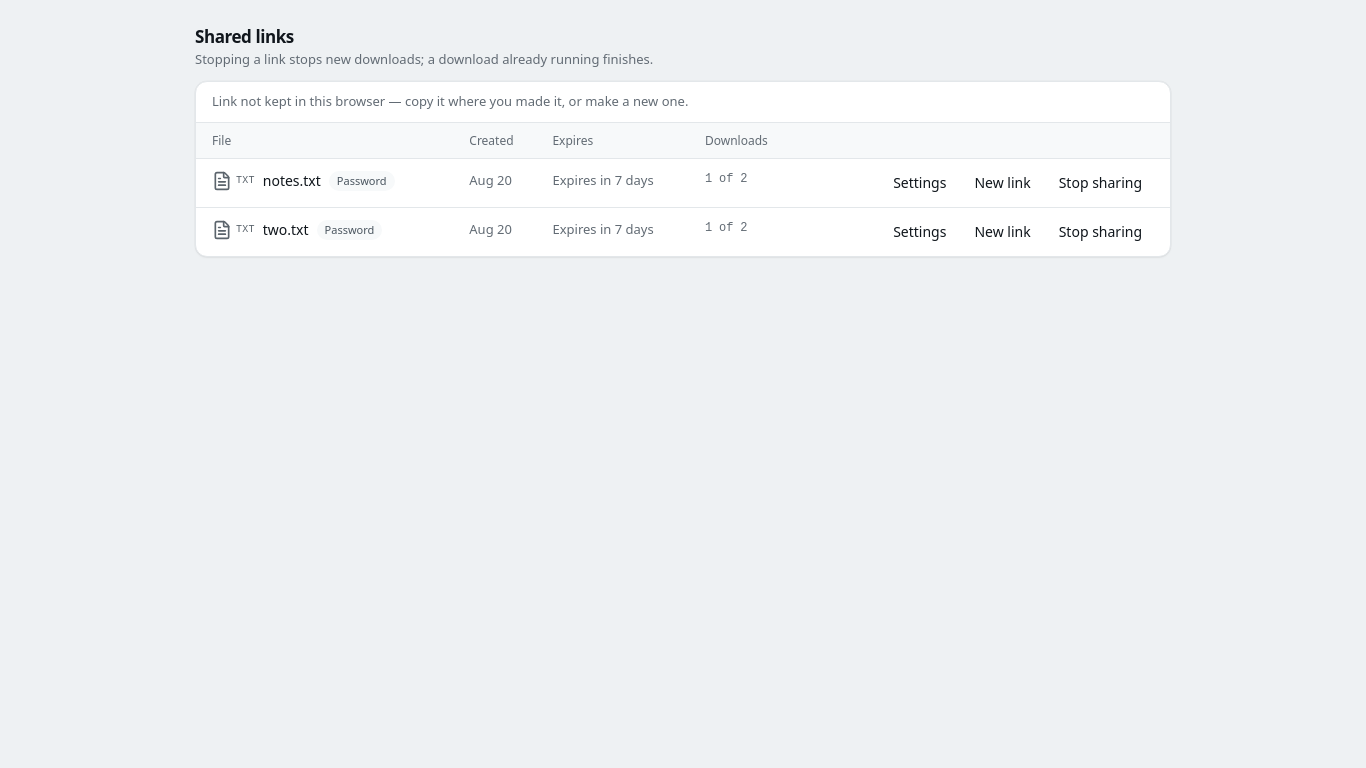
the actions › Settings opens the file’s own Share dialog, on that share, at its settings form
Click the button "Settings" in the row of "two.txt": (920, 232) top-left (881, 216), bottom-right (958, 248)
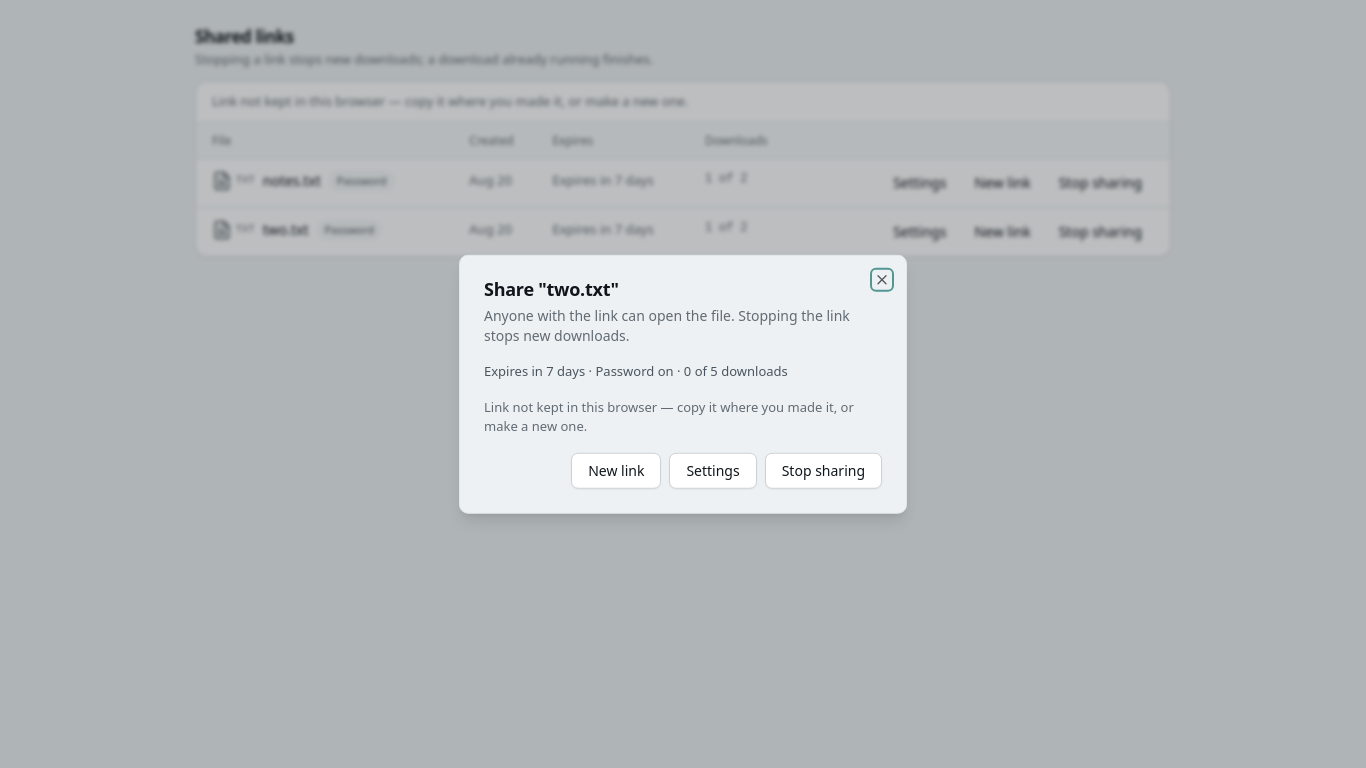
Check: the text "Expires in 7 days · Password on · 0 of 5 downloads" is shown, box top-left (484, 362), bottom-right (788, 380)
Check: the text "Link not kept in this browser — copy it where you made it, or make a new one." is shown, box top-left (484, 397), bottom-right (882, 436)
Click the button "Settings": (713, 470) top-left (669, 452), bottom-right (757, 488)
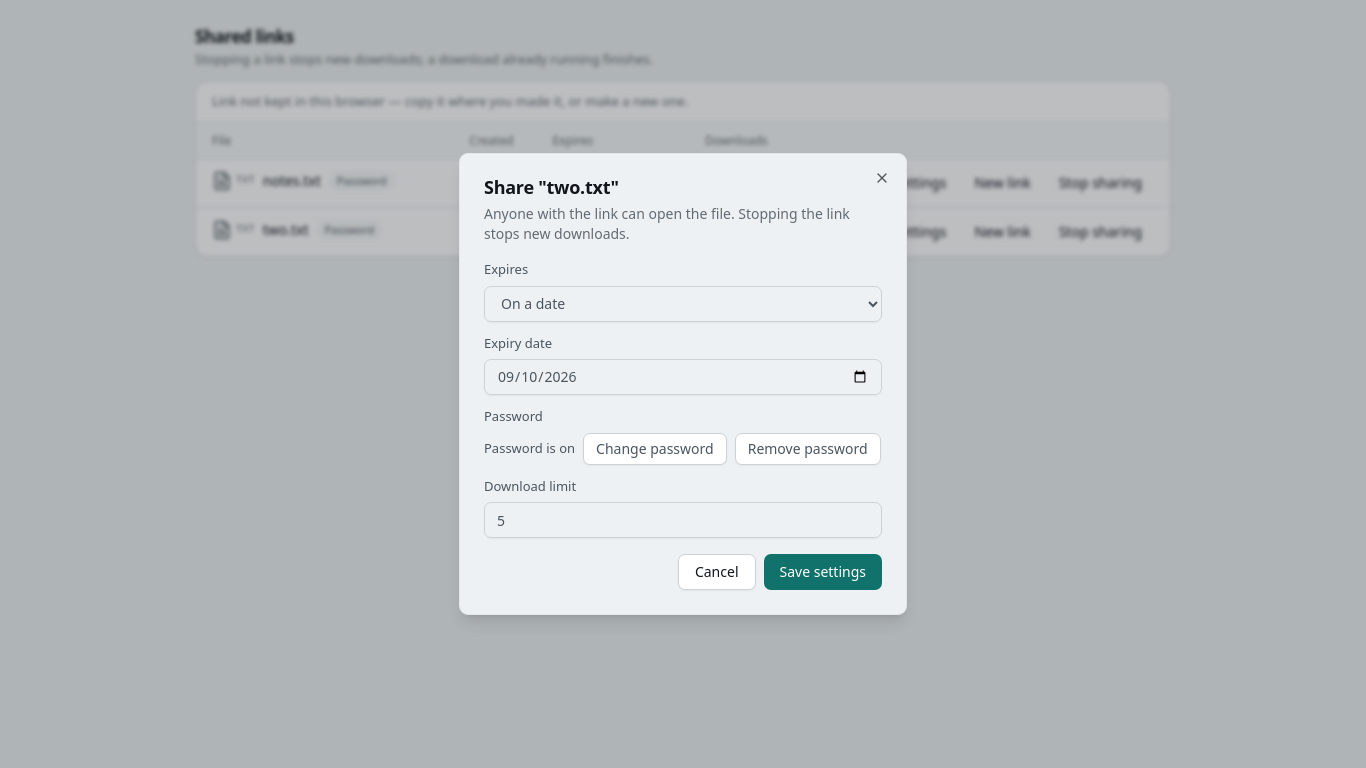
Check: the number field labelled "Download limit" holds "5", box top-left (484, 502), bottom-right (882, 538)
Check: the button "Save settings" is shown, box top-left (764, 554), bottom-right (882, 590)
Note: Closing it leaves the list where it was.
Press Escape
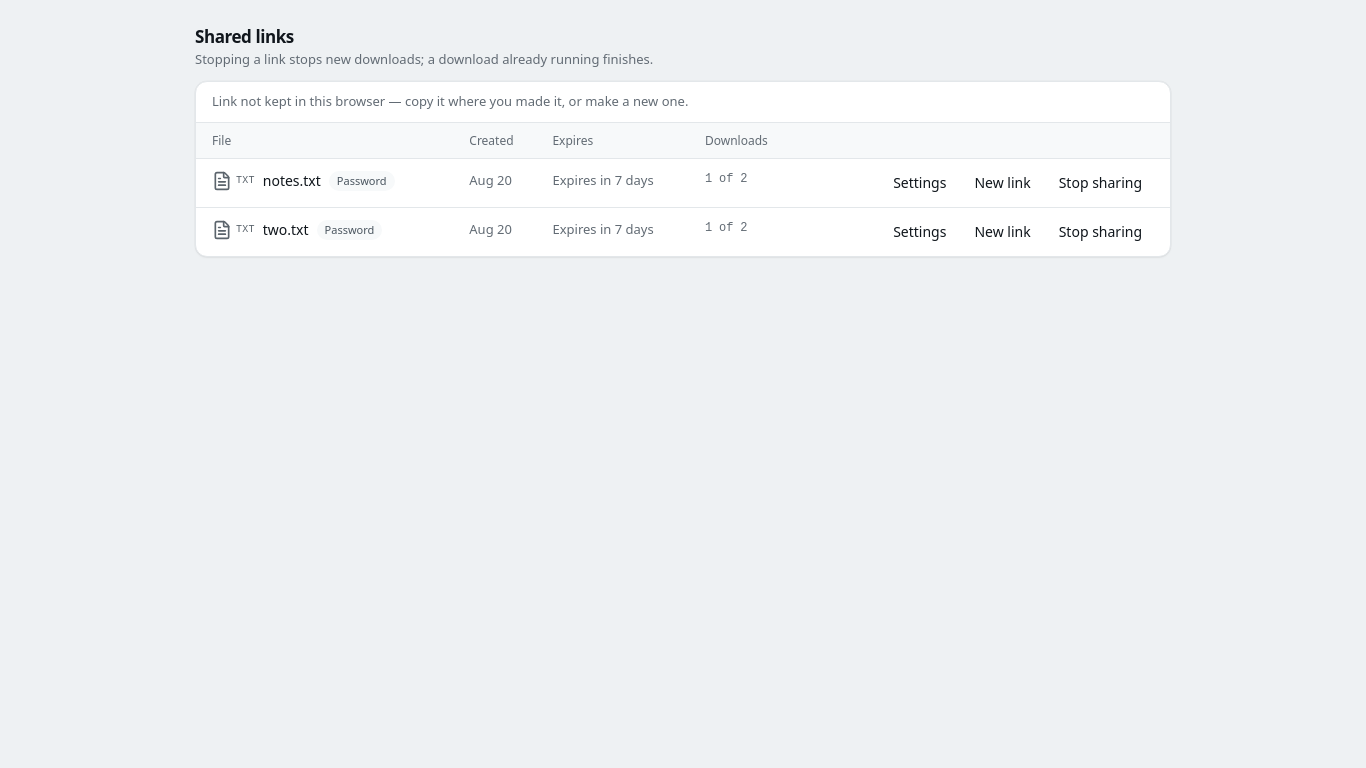
Check: the number of rows with test id "share-row" is 2, box top-left (196, 158), bottom-right (1170, 208); top-left (196, 208), bottom-right (1170, 256)
Check: the heading "Share \"two.txt\"" is gone
